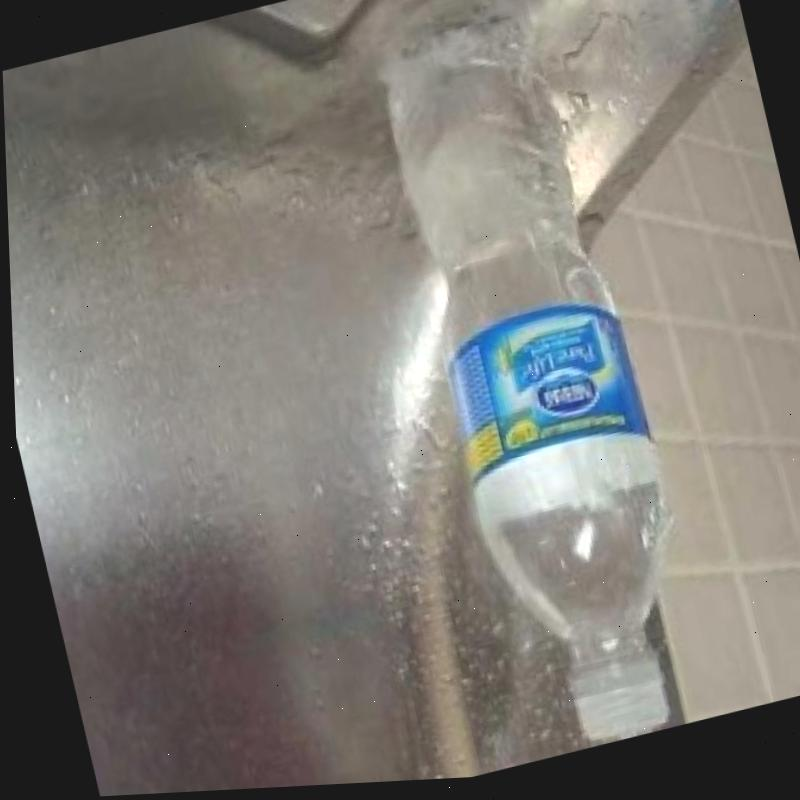botella: (365, 0, 721, 769)
